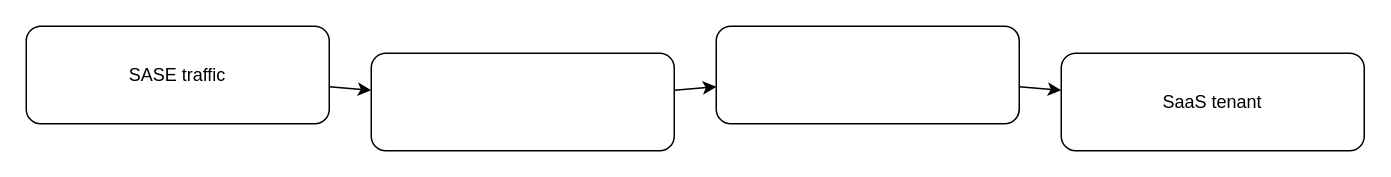
This 1391x177 diagram has some shape labels left out. The centre of each missing label's shape, as x and y in pixels:
HTTP header: (x=867, y=74)
TLS inspection: (x=522, y=101)
